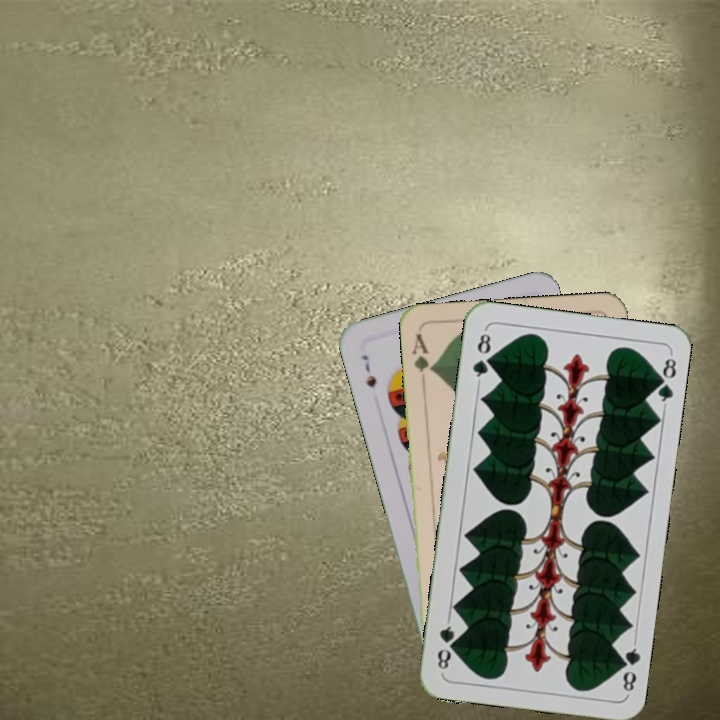G8: (613, 637, 643, 697), (468, 326, 494, 385)
GA: (408, 329, 436, 388)
S7: (357, 350, 379, 391)
